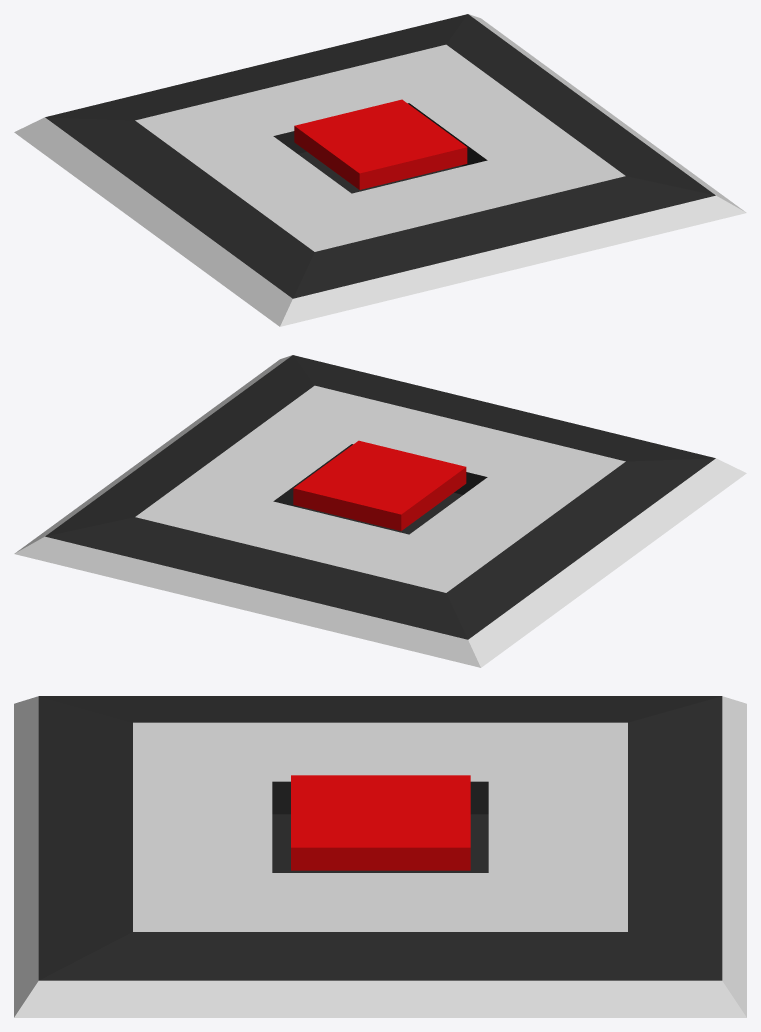
The model's file is PlataformaPuzzle 1.fbx.
The picture shows the model from 3 angles, top to bottom: view 1: azimuth 30°, elevation 25°; view 2: azimuth 150°, elevation 25°; view 3: azimuth 270°, elevation 25°; orthographic projection. The views are drawn at different scales.
Visible parts, largest first — view 1: Cube; view 2: Cube; view 3: Cube.
Part boxes in pixels (x1=…): Cube: x1=14, y1=14, x2=746, y2=326; Cube: x1=14, y1=355, x2=746, y2=667; Cube: x1=14, y1=696, x2=746, y2=1017.
Bounding box in the file's own units: 384 × 28.27 × 379.
